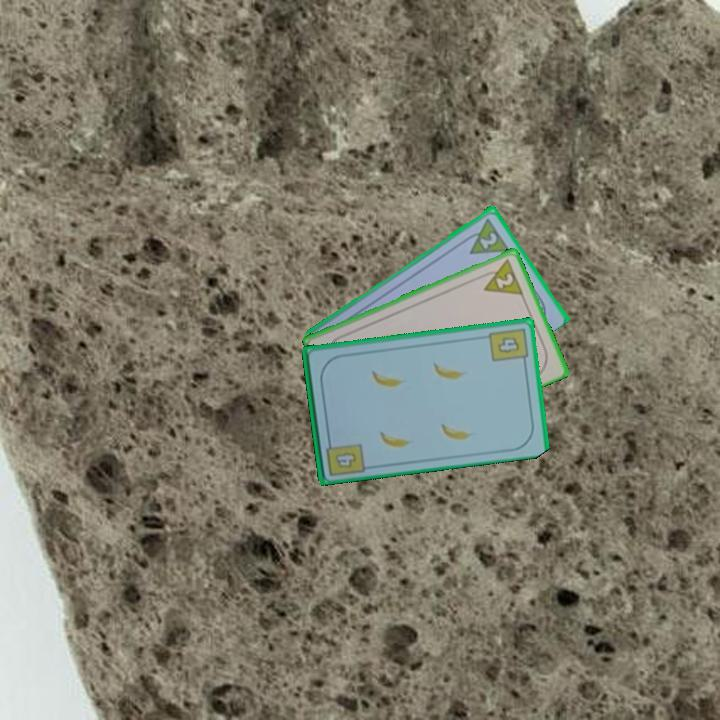2p: (459, 214, 512, 257), (475, 255, 526, 298)
4b: (322, 434, 367, 479), (485, 324, 530, 367)
